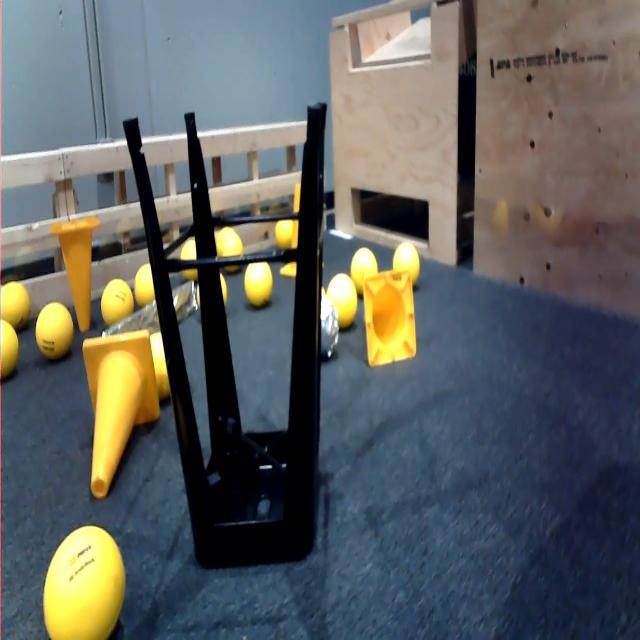fuel: (39, 521, 139, 640), (32, 299, 77, 370), (323, 270, 359, 334), (96, 273, 135, 330), (388, 235, 424, 291), (348, 244, 382, 297), (0, 278, 33, 330), (0, 318, 21, 388), (245, 259, 275, 308), (133, 260, 159, 314), (215, 228, 246, 272), (177, 238, 203, 282), (275, 219, 298, 250)
